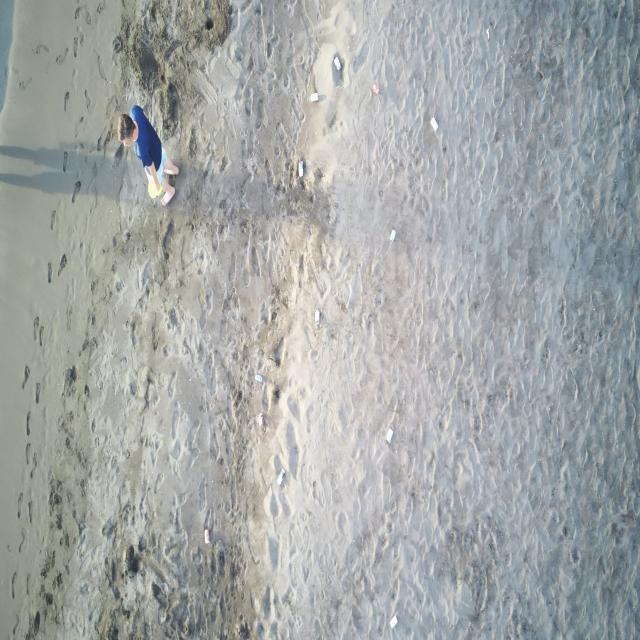tin-and-aluminum-cans: (276, 467, 286, 487), (333, 55, 342, 72), (431, 116, 438, 132), (386, 427, 393, 443), (298, 160, 304, 178), (390, 616, 398, 629), (310, 92, 320, 102), (204, 528, 210, 544), (258, 413, 264, 428), (390, 229, 396, 243), (314, 310, 320, 324), (372, 84, 380, 94), (255, 374, 263, 383)
